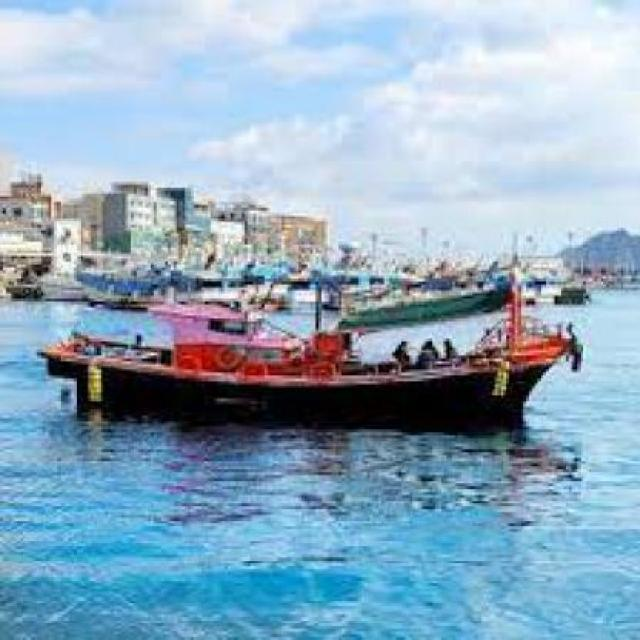fish-b: (27, 260, 596, 454)
